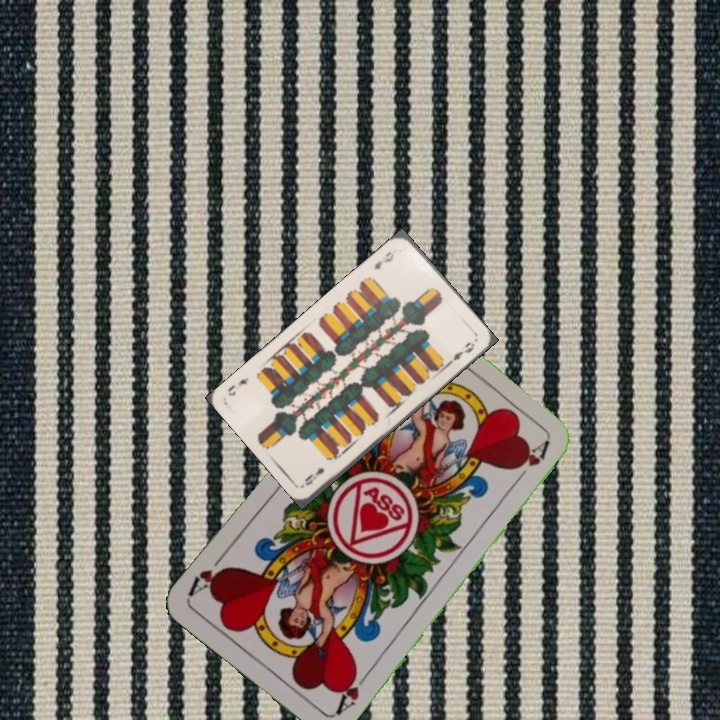E9: (300, 463, 327, 488), (370, 247, 397, 272)
HA: (330, 666, 373, 719)
